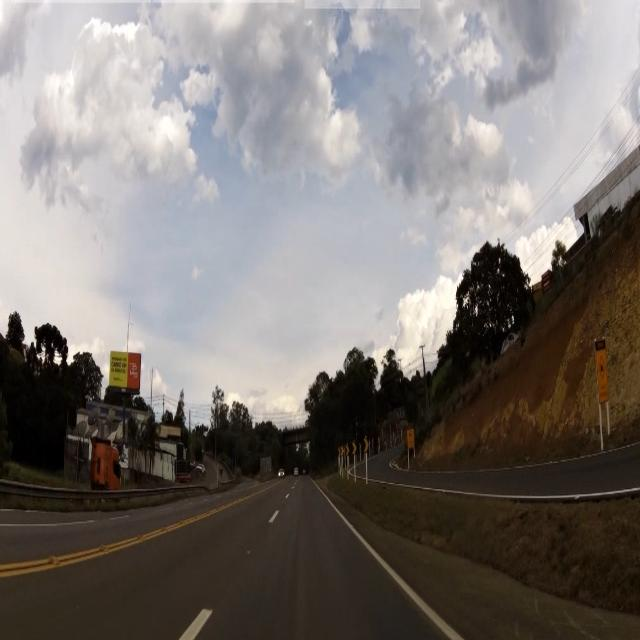Del: (362, 437, 371, 452), (352, 440, 358, 455)
